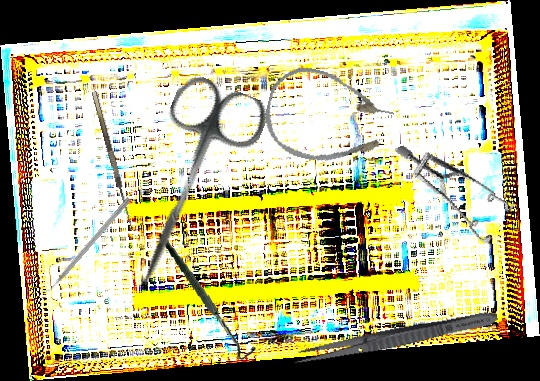Cannula: (257, 60, 400, 177)
Chopper: (37, 192, 132, 298)
Dressing Forceps: (291, 306, 500, 370)
Hook Surgical: (158, 222, 258, 369), (91, 88, 142, 233)
Iris Scissors: (105, 70, 273, 304)
Speculum: (394, 116, 524, 262)
